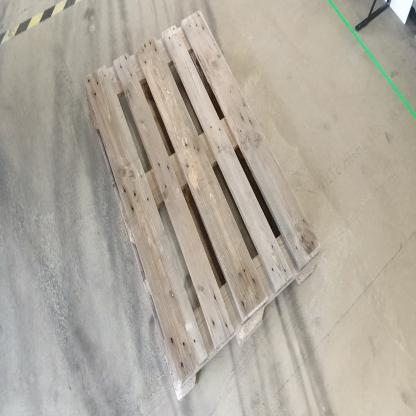BoxFace: (78, 5, 326, 409)
